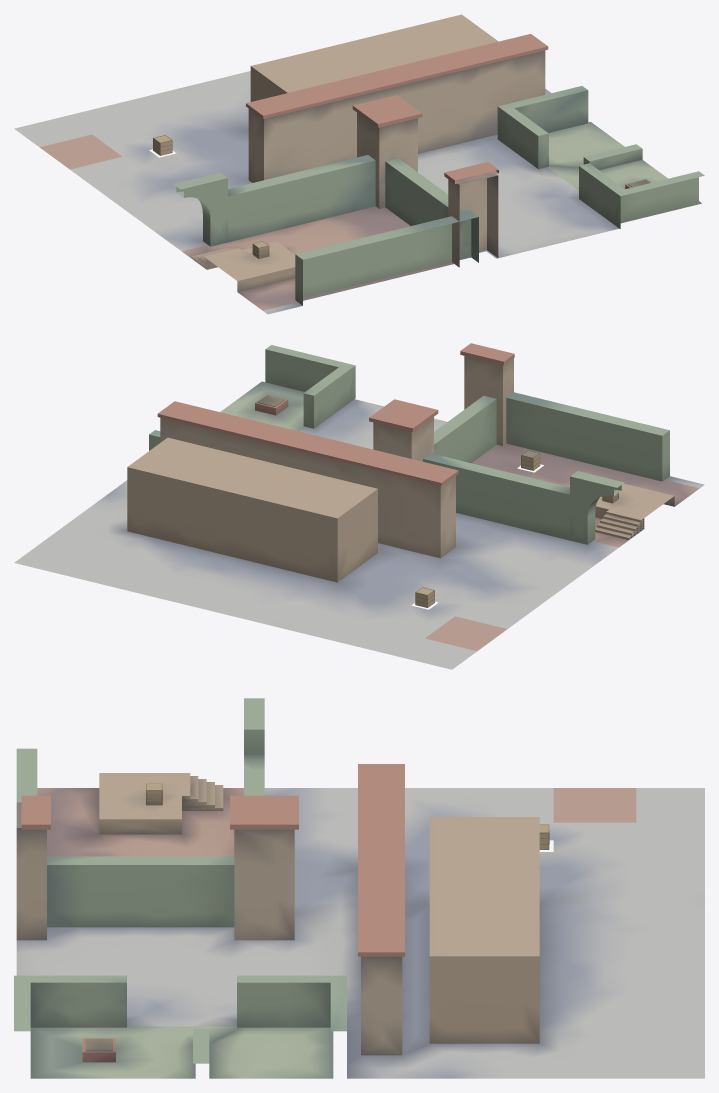
3 views of the same model, one above another, from view 1: azimuth 30°, elevation 25°; view 2: azimuth 150°, elevation 25°; view 3: azimuth 270°, elevation 25° (orthographic). The views are drawn at different scales.
Visible parts, largest first — view 1: t; view 2: t; view 3: t.
Boxes of the visible parts, x1,y1,x2,y2 form: t: (14,14,704,314); t: (14,343,704,669); t: (14,698,704,1078).
Size of the model in its own units: 50.38 by 9.4 by 50.2.
